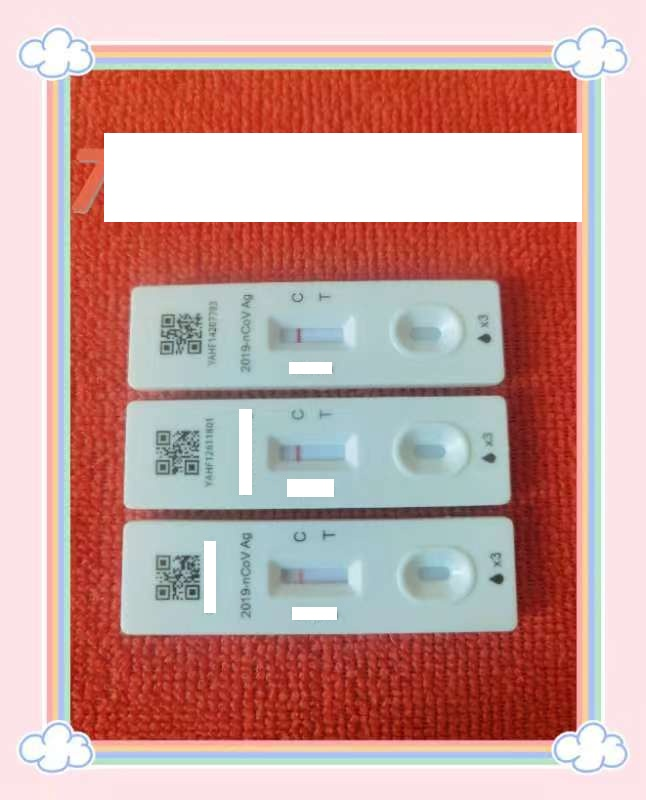negative: (269, 555, 355, 594), (267, 438, 358, 469), (269, 318, 353, 350)
